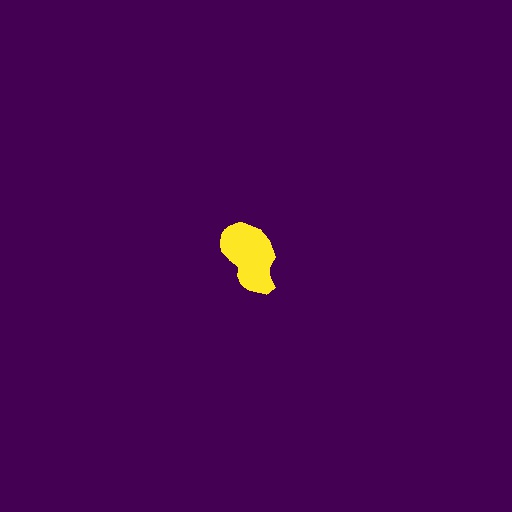Pituirity_tumour: (220, 222, 276, 295)
